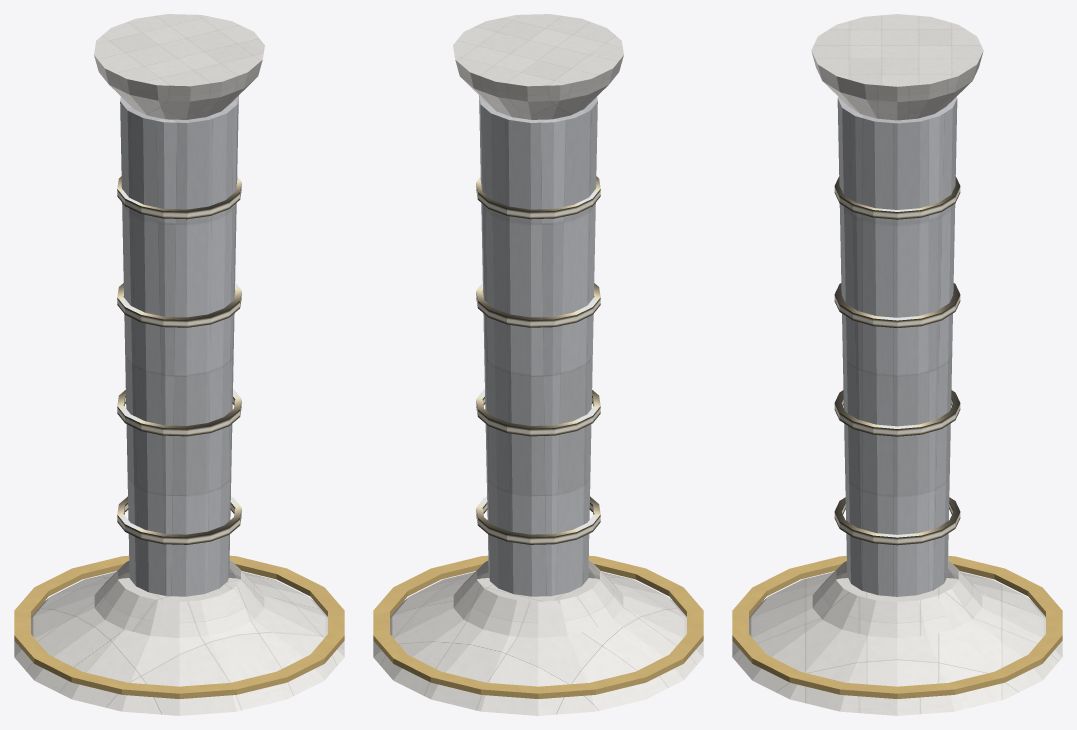
Rendered from sanc_plaza_core.obj.
The picture shows the model from 3 angles, left to right: view 1: azimuth 30°, elevation 25°; view 2: azimuth 150°, elevation 25°; view 3: azimuth 270°, elevation 25°; orthographic projection.
Visible parts, largest first — view 1: sanc_plaza_core; view 2: sanc_plaza_core; view 3: sanc_plaza_core.
Boxes of the visible parts, x1,y1,x2,y2 form: sanc_plaza_core: (14,14,344,715); sanc_plaza_core: (373,14,703,715); sanc_plaza_core: (732,14,1062,715).
Bounding box in the file's own units: 14 × 27.4 × 13.79.
1 material, 1 textured.
